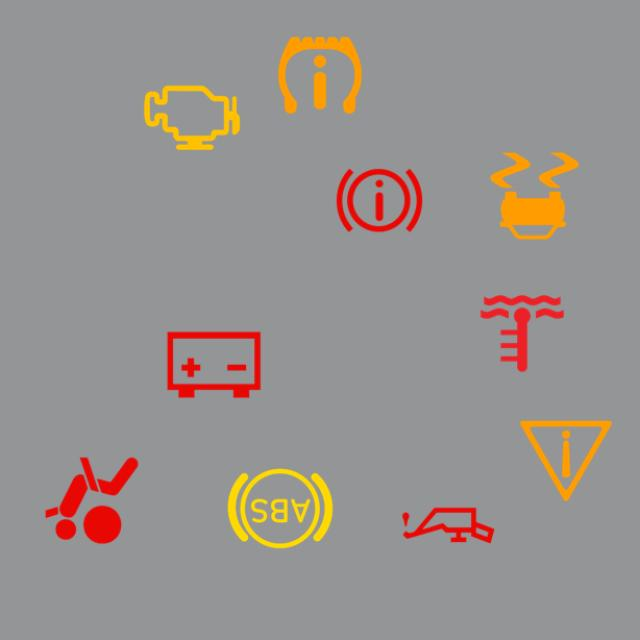Anti Lock Braking System: (223, 451, 338, 566)
Braking System Issue: (322, 143, 437, 257)
Charging System Issue: (156, 308, 271, 422)
Check Engine: (135, 61, 249, 175)
Electronic Stability Problem -ESP-: (477, 139, 592, 253)
Engine Overheating Warning Light: (465, 276, 579, 391)
Low Engine Oil Warning Light: (391, 468, 505, 583)
Low Tire Pressure Warning Light: (263, 18, 377, 132)
Master warning light: (509, 403, 623, 518)
SRS-Airbag: (34, 443, 149, 558)
